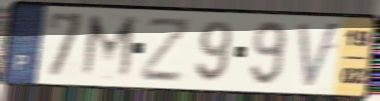7: (46, 10, 86, 81)
9: (248, 19, 289, 88), (192, 18, 234, 85)
M: (77, 12, 140, 83)
V: (296, 19, 343, 93)
Z: (139, 16, 194, 84)
